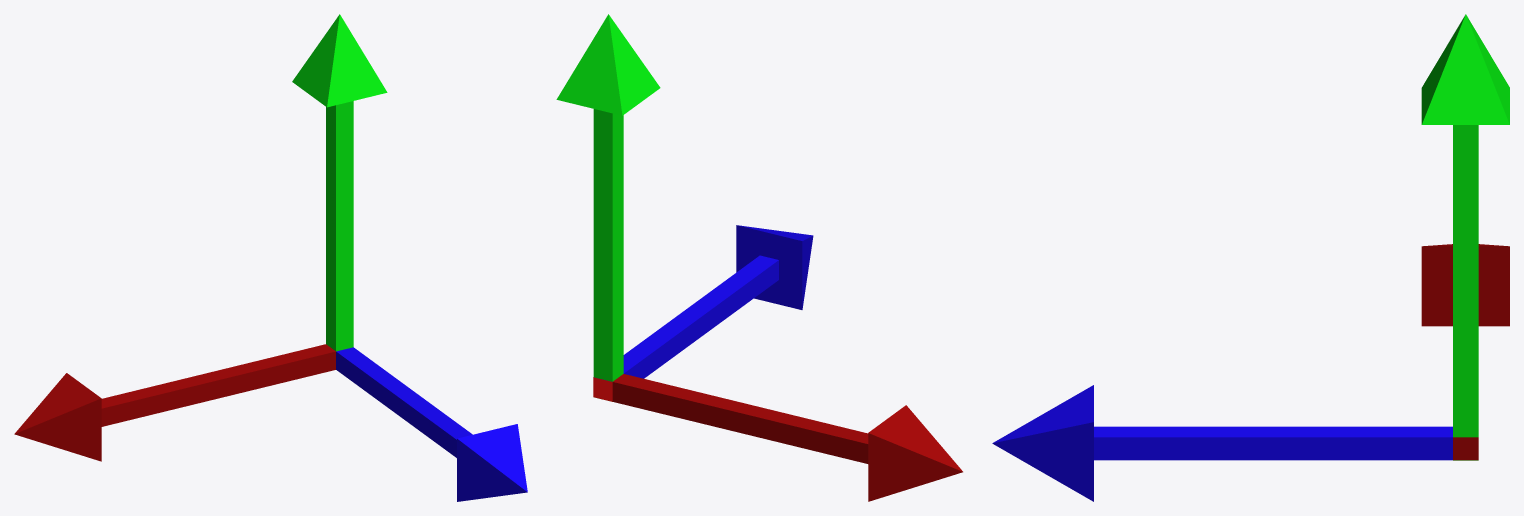
Rendered from gizmo_translate.FBX.
The picture shows the model from 3 angles, left to right: view 1: azimuth 30°, elevation 25°; view 2: azimuth 150°, elevation 25°; view 3: azimuth 270°, elevation 25°; orthographic projection. The views are drawn at different scales.
Parts seen in each view (by area): view 1: Y, Z, X; view 2: Z, Y, X; view 3: X, Y, Z.
Boxes of the visible parts, x1,y1,x2,y2 form: Y: (292, 14, 387, 351); Z: (14, 344, 335, 461); X: (336, 347, 527, 501); Z: (593, 374, 962, 501); Y: (556, 14, 660, 381); X: (623, 225, 813, 378); X: (992, 385, 1452, 501); Y: (1421, 14, 1509, 460); Z: (1421, 244, 1509, 460).
Size of the model in its own units: 34.59 by 34.59 by 34.59.
